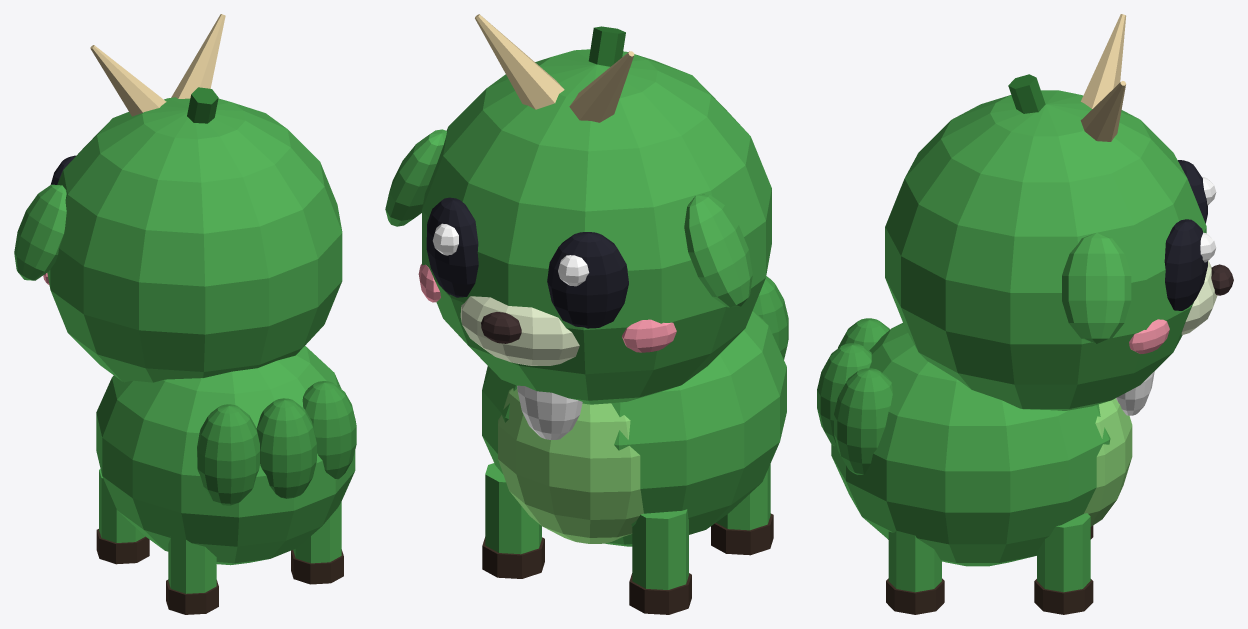
File: PepperGoat.fbx
The picture shows the model from 3 angles, left to right: view 1: azimuth 30°, elevation 25°; view 2: azimuth 150°, elevation 25°; view 3: azimuth 270°, elevation 25°; orthographic projection. The views are drawn at different scales.
Visible parts, largest first — view 1: Pet_4CAF50, Pet_43A047, Pet_3A2A20, Pet_E8D2A0, Pet_2E7D32; view 2: Pet_4CAF50, Pet_8EDB7A, Pet_1E1E2A, Pet_E8D2A0, Pet_3A2A20, Pet_E8F5D0, Pet_FFFFFF, Pet_FF9AAE, Pet_43A047, Pet_2E7D32, Pet_3A2A2A; view 3: Pet_4CAF50, Pet_43A047, Pet_1E1E2A, Pet_8EDB7A, Pet_E8D2A0, Pet_3A2A20, Pet_FFFFFF, Pet_2E7D32, Pet_E8F5D0, Pet_FF9AAE, Pet_3A2A2A.
Boxes of the visible parts, left/top/right/bottom form: Pet_4CAF50: left=14, top=97, right=355, bottom=593; Pet_43A047: left=197, top=381, right=356, bottom=505; Pet_3A2A20: left=96, top=529, right=343, bottom=614; Pet_E8D2A0: left=90, top=14, right=225, bottom=116; Pet_2E7D32: left=187, top=87, right=218, bottom=123; Pet_4CAF50: left=385, top=49, right=786, bottom=589; Pet_8EDB7A: left=498, top=388, right=643, bottom=543; Pet_1E1E2A: left=426, top=197, right=628, bottom=328; Pet_E8D2A0: left=475, top=14, right=634, bottom=122; Pet_3A2A20: left=482, top=513, right=773, bottom=614; Pet_E8F5D0: left=460, top=296, right=579, bottom=365; Pet_FFFFFF: left=432, top=223, right=589, bottom=439; Pet_FF9AAE: left=418, top=264, right=676, bottom=352; Pet_43A047: left=753, top=276, right=788, bottom=359; Pet_2E7D32: left=588, top=26, right=625, bottom=66; Pet_3A2A2A: left=481, top=312, right=521, bottom=343; Pet_4CAF50: left=831, top=90, right=1206, bottom=592; Pet_43A047: left=817, top=318, right=892, bottom=474; Pet_1E1E2A: left=1164, top=160, right=1207, bottom=310; Pet_8EDB7A: left=1084, top=398, right=1132, bottom=526; Pet_E8D2A0: left=1080, top=14, right=1126, bottom=141; Pet_3A2A20: left=886, top=525, right=1093, bottom=614; Pet_FFFFFF: left=1116, top=177, right=1216, bottom=415; Pet_2E7D32: left=1008, top=74, right=1045, bottom=113; Pet_E8F5D0: left=1181, top=260, right=1217, bottom=334; Pet_FF9AAE: left=1129, top=319, right=1169, bottom=353; Pet_3A2A2A: left=1211, top=264, right=1233, bottom=295.
Size of the model in its own units: 1.25 by 1.94 by 1.4.
